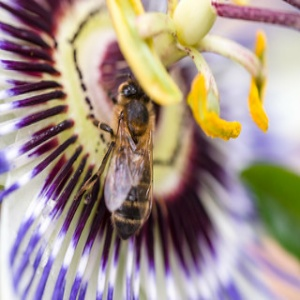bee: (98, 71, 158, 245)
